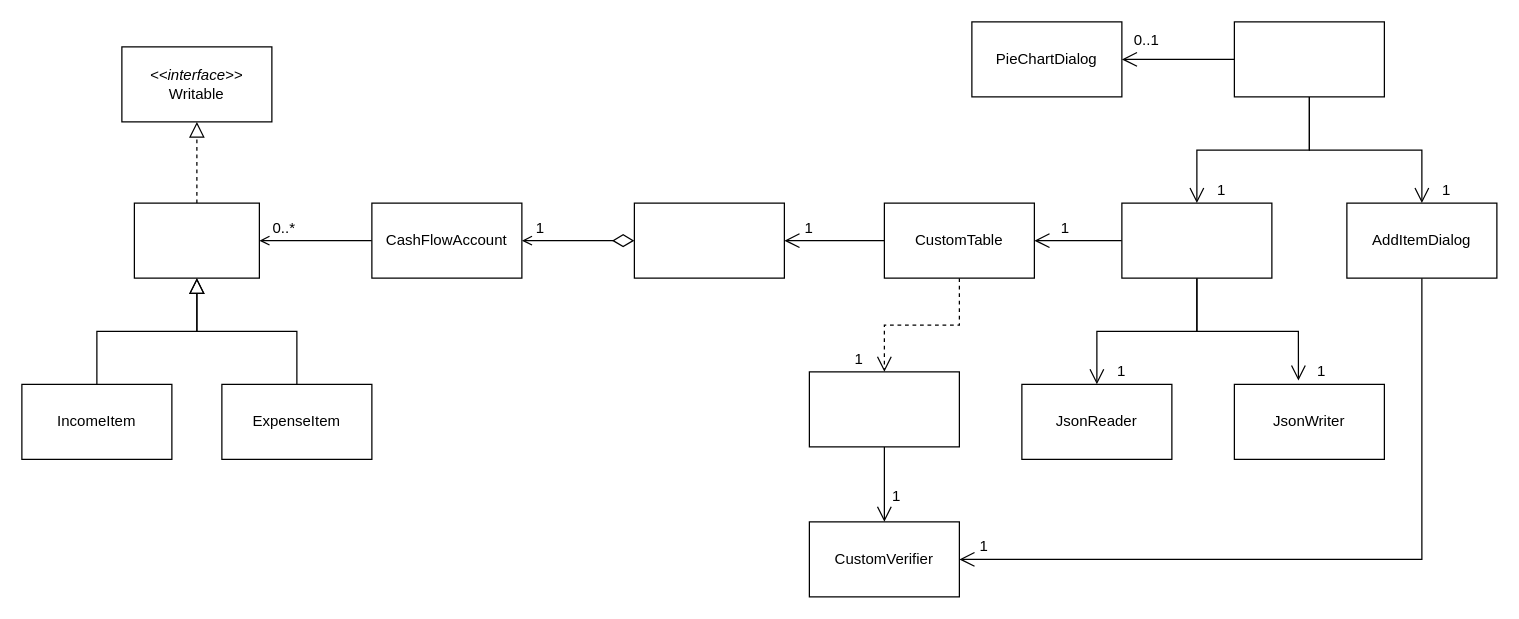
The diagram is 1519 pixels wide and 619 high, and some of its shapes have lost their labels. Each missing label, with the box of its shape:
<<abstract>> Item: (133, 202, 259, 278)
CustomCellEditor: (808, 371, 959, 447)
MainPanel: (1121, 202, 1272, 278)
SwingUI: (1233, 21, 1384, 97)
TableModel: (633, 202, 784, 278)
